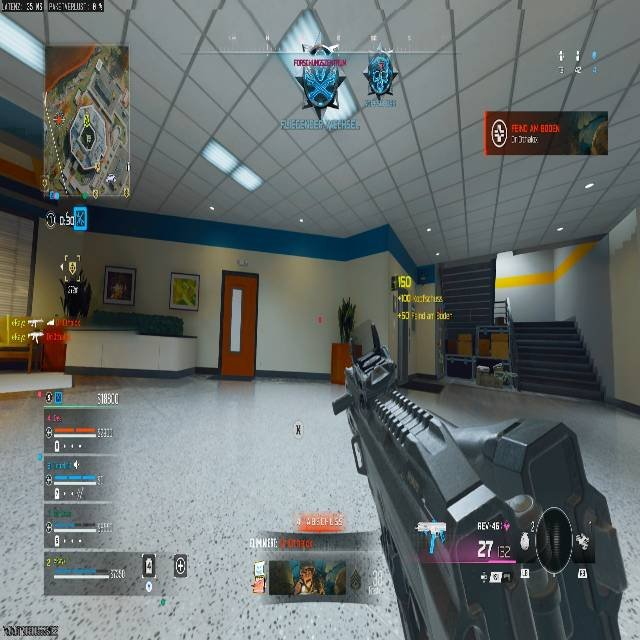player: (364, 54, 394, 99), (297, 565, 314, 597)
